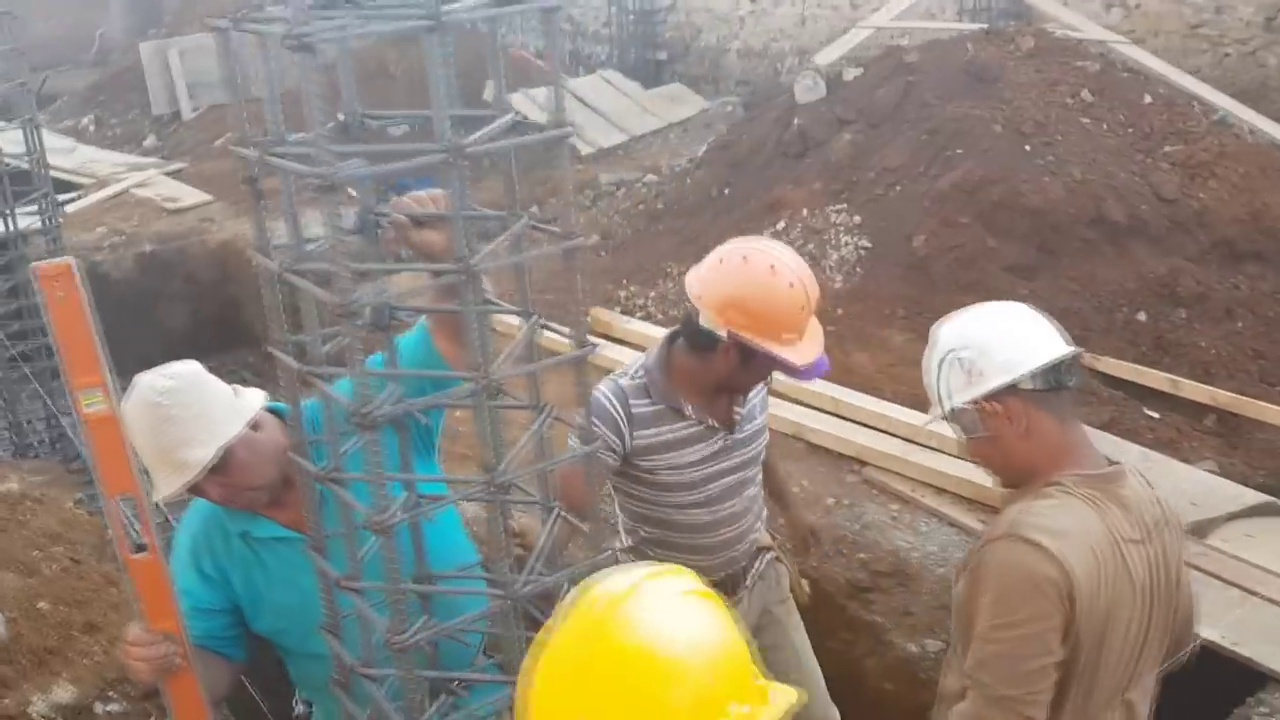helmet: (523, 569, 787, 718), (933, 302, 1088, 439), (688, 237, 827, 367)
helmet-off: (113, 362, 286, 541)
helmet-on: (913, 297, 1131, 500), (651, 232, 840, 425)
person: (99, 188, 510, 716), (917, 306, 1223, 720), (541, 224, 831, 629)
